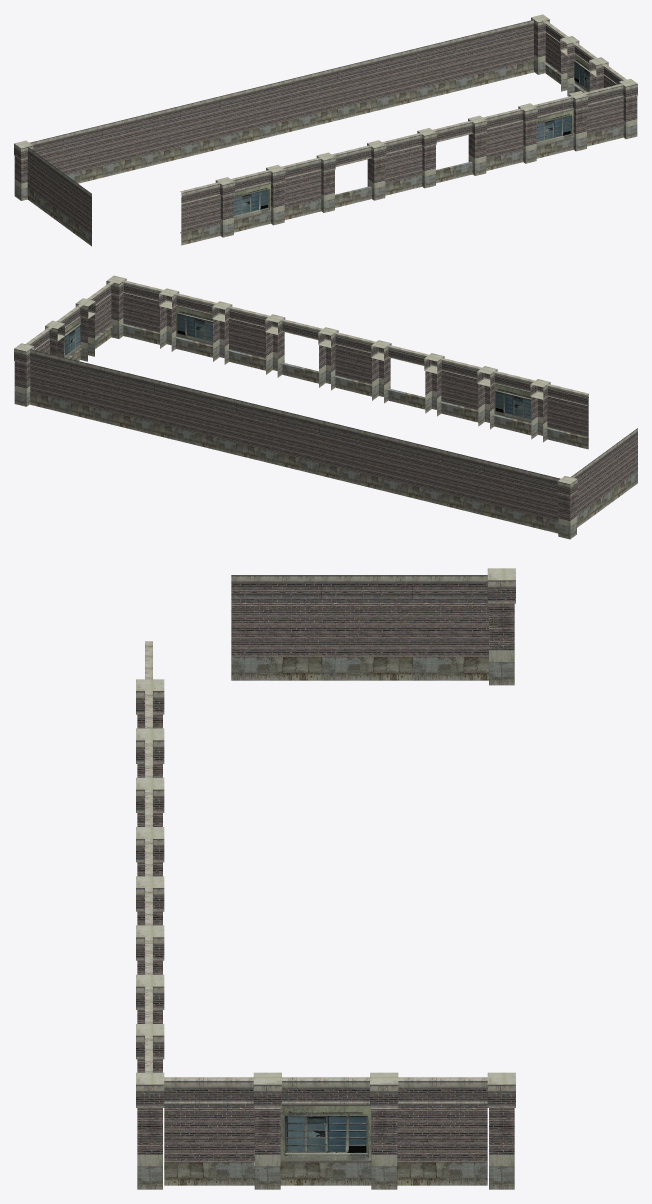
The model's file is warehouse_building00_building01_fence_0_lev1.glb.
3 views of the same model, one above another, from view 1: azimuth 30°, elevation 25°; view 2: azimuth 150°, elevation 25°; view 3: azimuth 270°, elevation 25° (orthographic). The views are drawn at different scales.
Visible parts, largest first — view 1: warehouse_building00_building01_fence_0_lev1; view 2: warehouse_building00_building01_fence_0_lev1; view 3: warehouse_building00_building01_fence_0_lev1.
Part boxes in pixels (x1=…): warehouse_building00_building01_fence_0_lev1: x1=14, y1=14, x2=637, y2=246; warehouse_building00_building01_fence_0_lev1: x1=14, y1=275, x2=637, y2=539; warehouse_building00_building01_fence_0_lev1: x1=136, y1=568, x2=515, y2=1189.
Bounding box in the file's own units: 32.34 × 3.08 × 10.06.
1 material, 1 textured.
